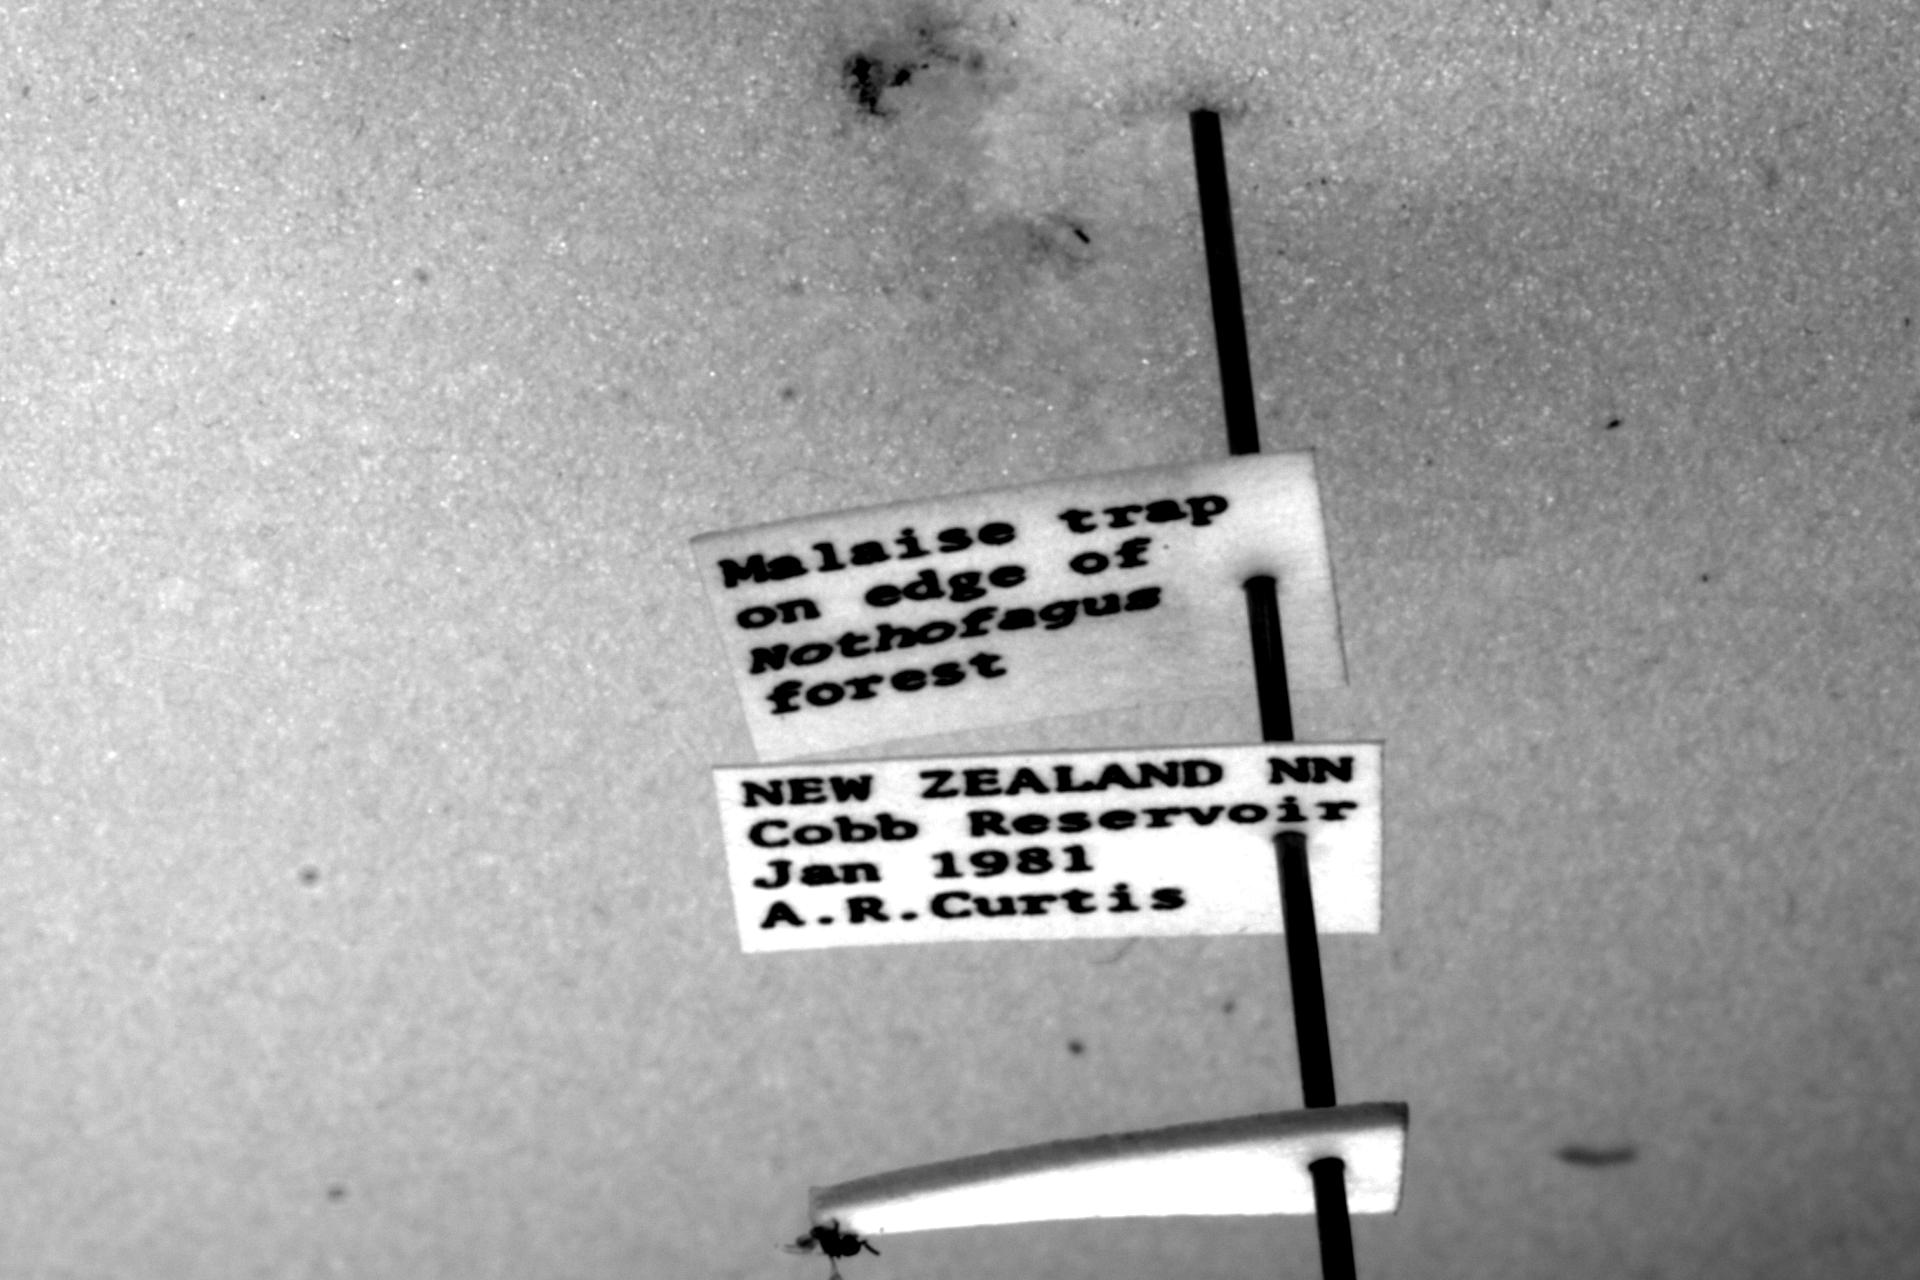typed_label: (694, 450, 1346, 761), (713, 743, 1384, 953)
